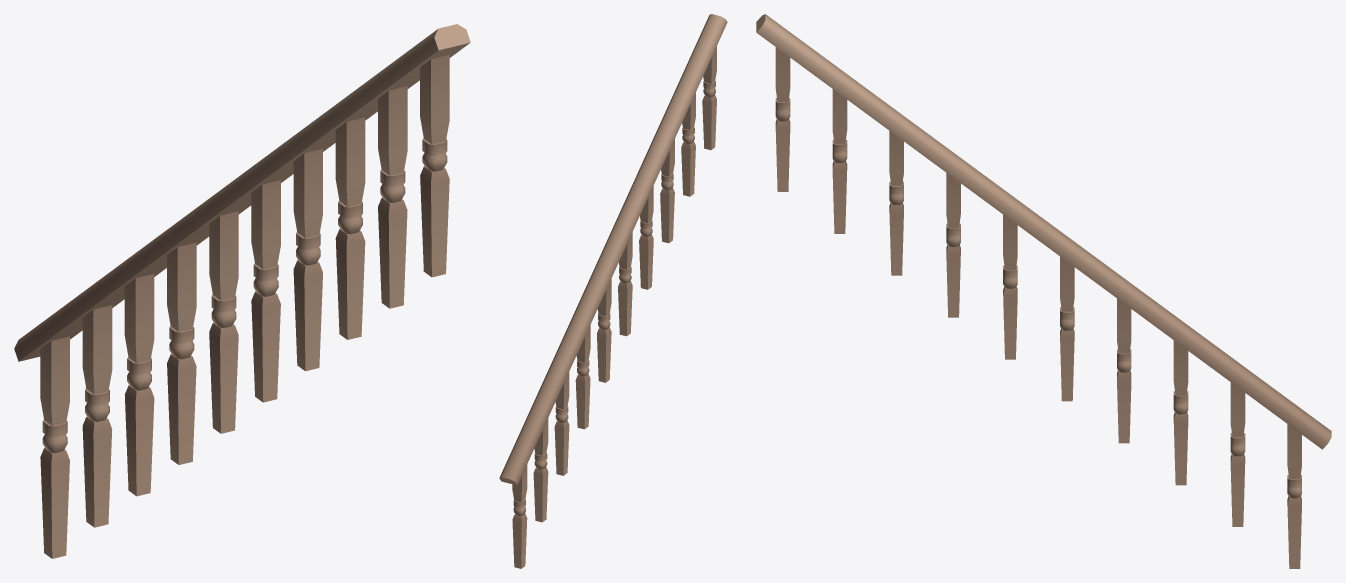
The model's file is stairs-railing-classic.glb.
3 views of the same model, side by side, from view 1: azimuth 30°, elevation 25°; view 2: azimuth 150°, elevation 25°; view 3: azimuth 270°, elevation 25° (orthographic). The views are drawn at different scales.
Visible parts, largest first — view 1: stairs-railing-classic; view 2: stairs-railing-classic; view 3: stairs-railing-classic.
Part boxes in pixels (x1,y1,x2,y2): stairs-railing-classic: [14, 24, 470, 558]; stairs-railing-classic: [499, 14, 727, 568]; stairs-railing-classic: [756, 14, 1331, 568].
Size of the model in its own units: 0.12 by 2.91 by 2.76.
